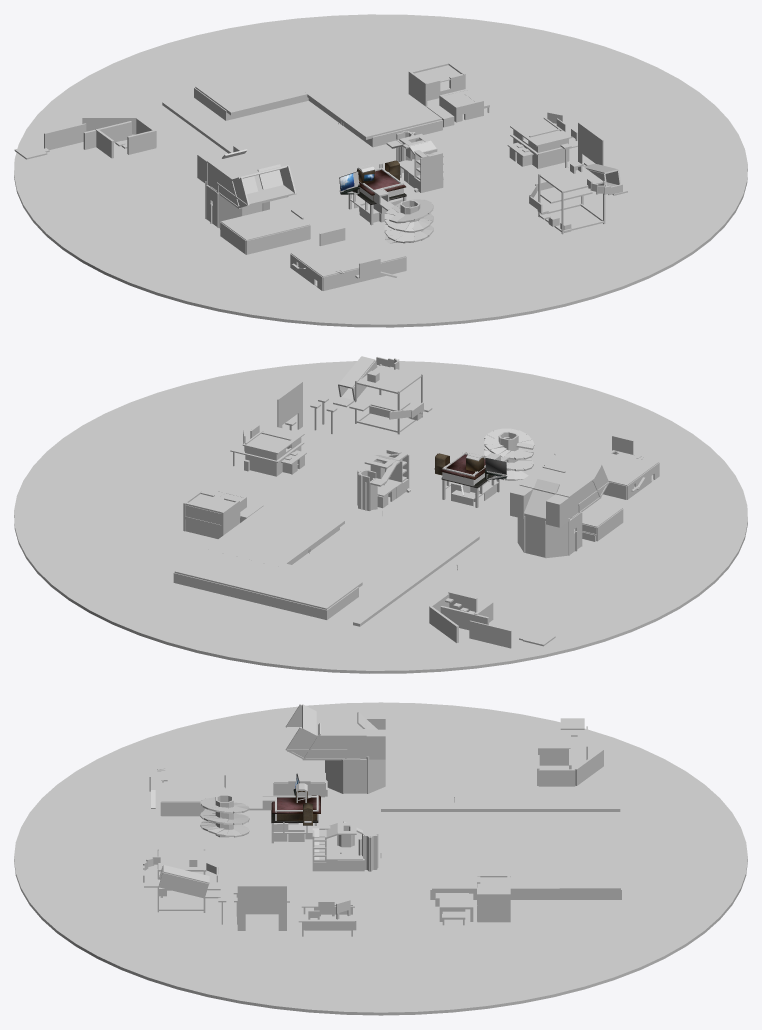
Rendered from building_d.glb.
3 views of the same model, one above another, from view 1: azimuth 30°, elevation 25°; view 2: azimuth 150°, elevation 25°; view 3: azimuth 270°, elevation 25° (orthographic).
Visible parts, largest first — view 1: MeshInstance3D310, MeshInstance3D297, MeshInstance3D299, MeshInstance3D426, building_d, MeshInstance3D442, MeshInstance3D330, MeshInstance3D329, MeshInstance3D340, MeshInstance3D30, MeshInstance3D405, MeshInstance3D172 (+12 smaller); view 2: MeshInstance3D310, MeshInstance3D297, MeshInstance3D299, MeshInstance3D296, MeshInstance3D329, building_d, MeshInstance3D117, MeshInstance3D442, MeshInstance3D389, MeshInstance3D30, MeshInstance3D330, MeshInstance3D172 (+15 smaller); view 3: MeshInstance3D310, MeshInstance3D297, MeshInstance3D299, MeshInstance3D329, MeshInstance3D117, MeshInstance3D113, MeshInstance3D295, MeshInstance3D426, building_d, MeshInstance3D442, MeshInstance3D441, MeshInstance3D384 (+13 smaller).
Boxes of the visible parts, x1=… form: MeshInstance3D310: x1=14, y1=14, x2=747, y2=327; MeshInstance3D297: x1=195, y1=49, x2=377, y2=115; MeshInstance3D299: x1=302, y1=72, x2=441, y2=139; MeshInstance3D426: x1=221, y1=206, x2=309, y2=240; building_d: x1=339, y1=160, x2=406, y2=204; MeshInstance3D442: x1=207, y1=149, x2=280, y2=181; MeshInstance3D330: x1=294, y1=246, x2=359, y2=276; MeshInstance3D329: x1=291, y1=233, x2=402, y2=266; MeshInstance3D340: x1=323, y1=257, x2=406, y2=290; MeshInstance3D30: x1=540, y1=166, x2=603, y2=192; MeshInstance3D405: x1=246, y1=225, x2=310, y2=254; MeshInstance3D172: x1=510, y1=117, x2=571, y2=146; MeshInstance3D310: x1=14, y1=361, x2=747, y2=673; MeshInstance3D297: x1=174, y1=549, x2=362, y2=609; MeshInstance3D299: x1=205, y1=502, x2=344, y2=567; MeshInstance3D296: x1=175, y1=573, x2=328, y2=619; MeshInstance3D329: x1=544, y1=444, x2=655, y2=485; building_d: x1=435, y1=452, x2=507, y2=488; MeshInstance3D117: x1=353, y1=534, x2=479, y2=626; MeshInstance3D442: x1=519, y1=468, x2=594, y2=497; MeshInstance3D389: x1=184, y1=502, x2=224, y2=538; MeshInstance3D30: x1=356, y1=365, x2=421, y2=393; MeshInstance3D330: x1=602, y1=452, x2=658, y2=483; MeshInstance3D172: x1=242, y1=425, x2=304, y2=454; MeshInstance3D310: x1=14, y1=702, x2=747, y2=1015; MeshInstance3D297: x1=549, y1=814, x2=620, y2=889; MeshInstance3D299: x1=432, y1=851, x2=559, y2=889; MeshInstance3D329: x1=167, y1=761, x2=225, y2=802; MeshInstance3D117: x1=381, y1=805, x2=620, y2=811; MeshInstance3D113: x1=237, y1=885, x2=286, y2=914; MeshInstance3D295: x1=430, y1=888, x2=621, y2=899; MeshInstance3D426: x1=274, y1=751, x2=324, y2=782; building_d: x1=271, y1=773, x2=320, y2=825; MeshInstance3D442: x1=316, y1=711, x2=366, y2=736; MeshInstance3D441: x1=303, y1=737, x2=366, y2=759; MeshInstance3D384: x1=477, y1=893, x2=510, y2=922.
Size of the model in its own units: 460 by 59.07 by 460.
1 material, 1 textured.
